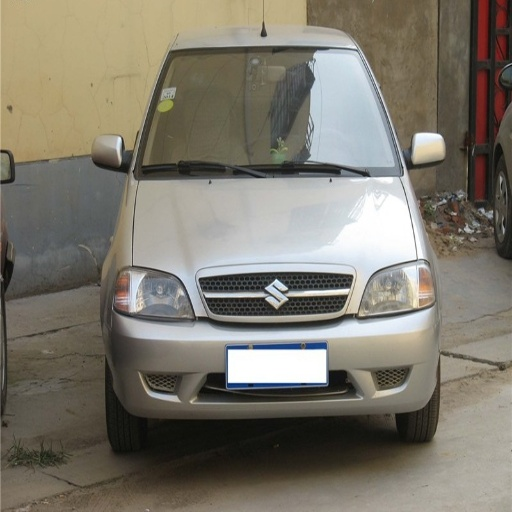front_bumper: (111, 273, 435, 418)
front_right_light: (114, 265, 195, 322)
hood: (134, 176, 417, 314)
left_mirror: (408, 132, 446, 169)
